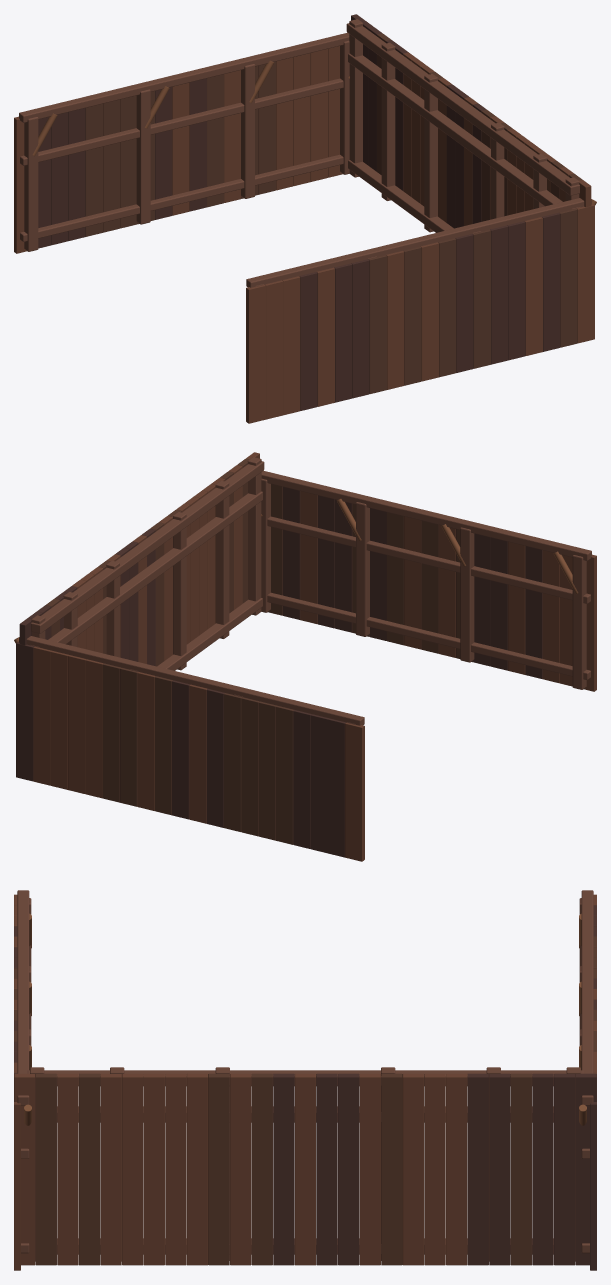
The model's file is SM_Hub_TimberShell.fbx.
3 views of the same model, one above another, from view 1: azimuth 30°, elevation 25°; view 2: azimuth 150°, elevation 25°; view 3: azimuth 270°, elevation 25° (orthographic). The views are drawn at different scales.
Visible parts, largest first — view 1: Back wall tongue-and-groove.027_Baked; view 2: Back wall tongue-and-groove.027_Baked; view 3: Back wall tongue-and-groove.027_Baked.
Boxes of the visible parts, x1,y1,x2,y2 form: Back wall tongue-and-groove.027_Baked: (14,14,596,423); Back wall tongue-and-groove.027_Baked: (14,452,596,861); Back wall tongue-and-groove.027_Baked: (14,890,596,1270).
Bounding box in the file's own units: 1102 × 1269 × 464.
